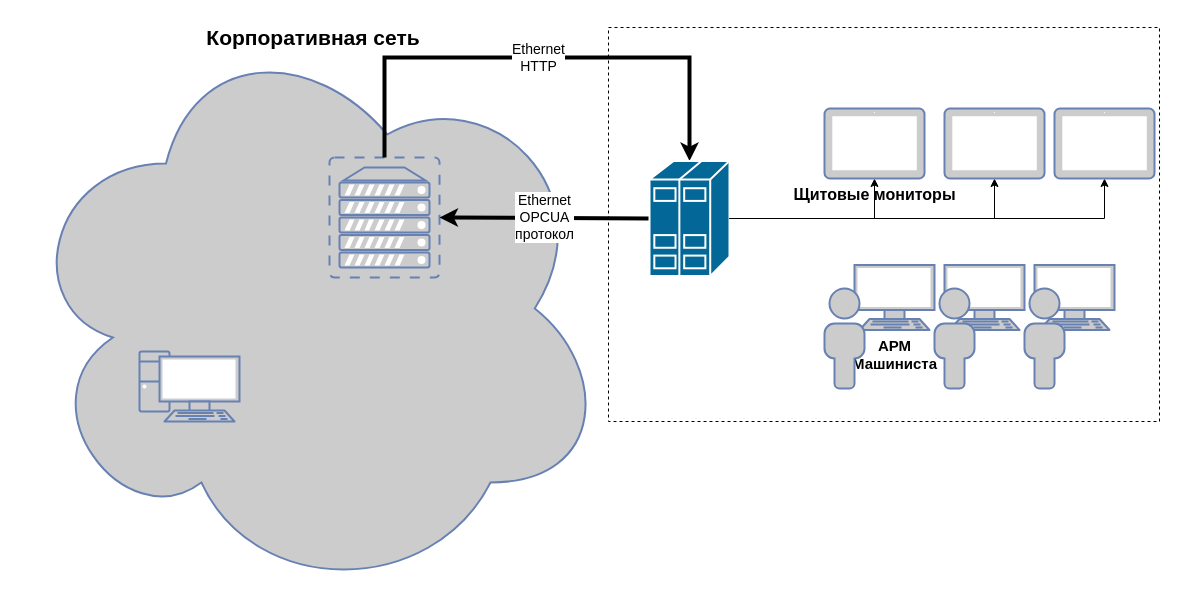
The diagram is 1177 pixels wide and 616 high, and some of its shapes have lost their labels. The centre of each missing label's shape, as x and y in pixels:
АСУ ТП Сервер: point 689,218
Вирт.сервер АССТИ: point 384,217
